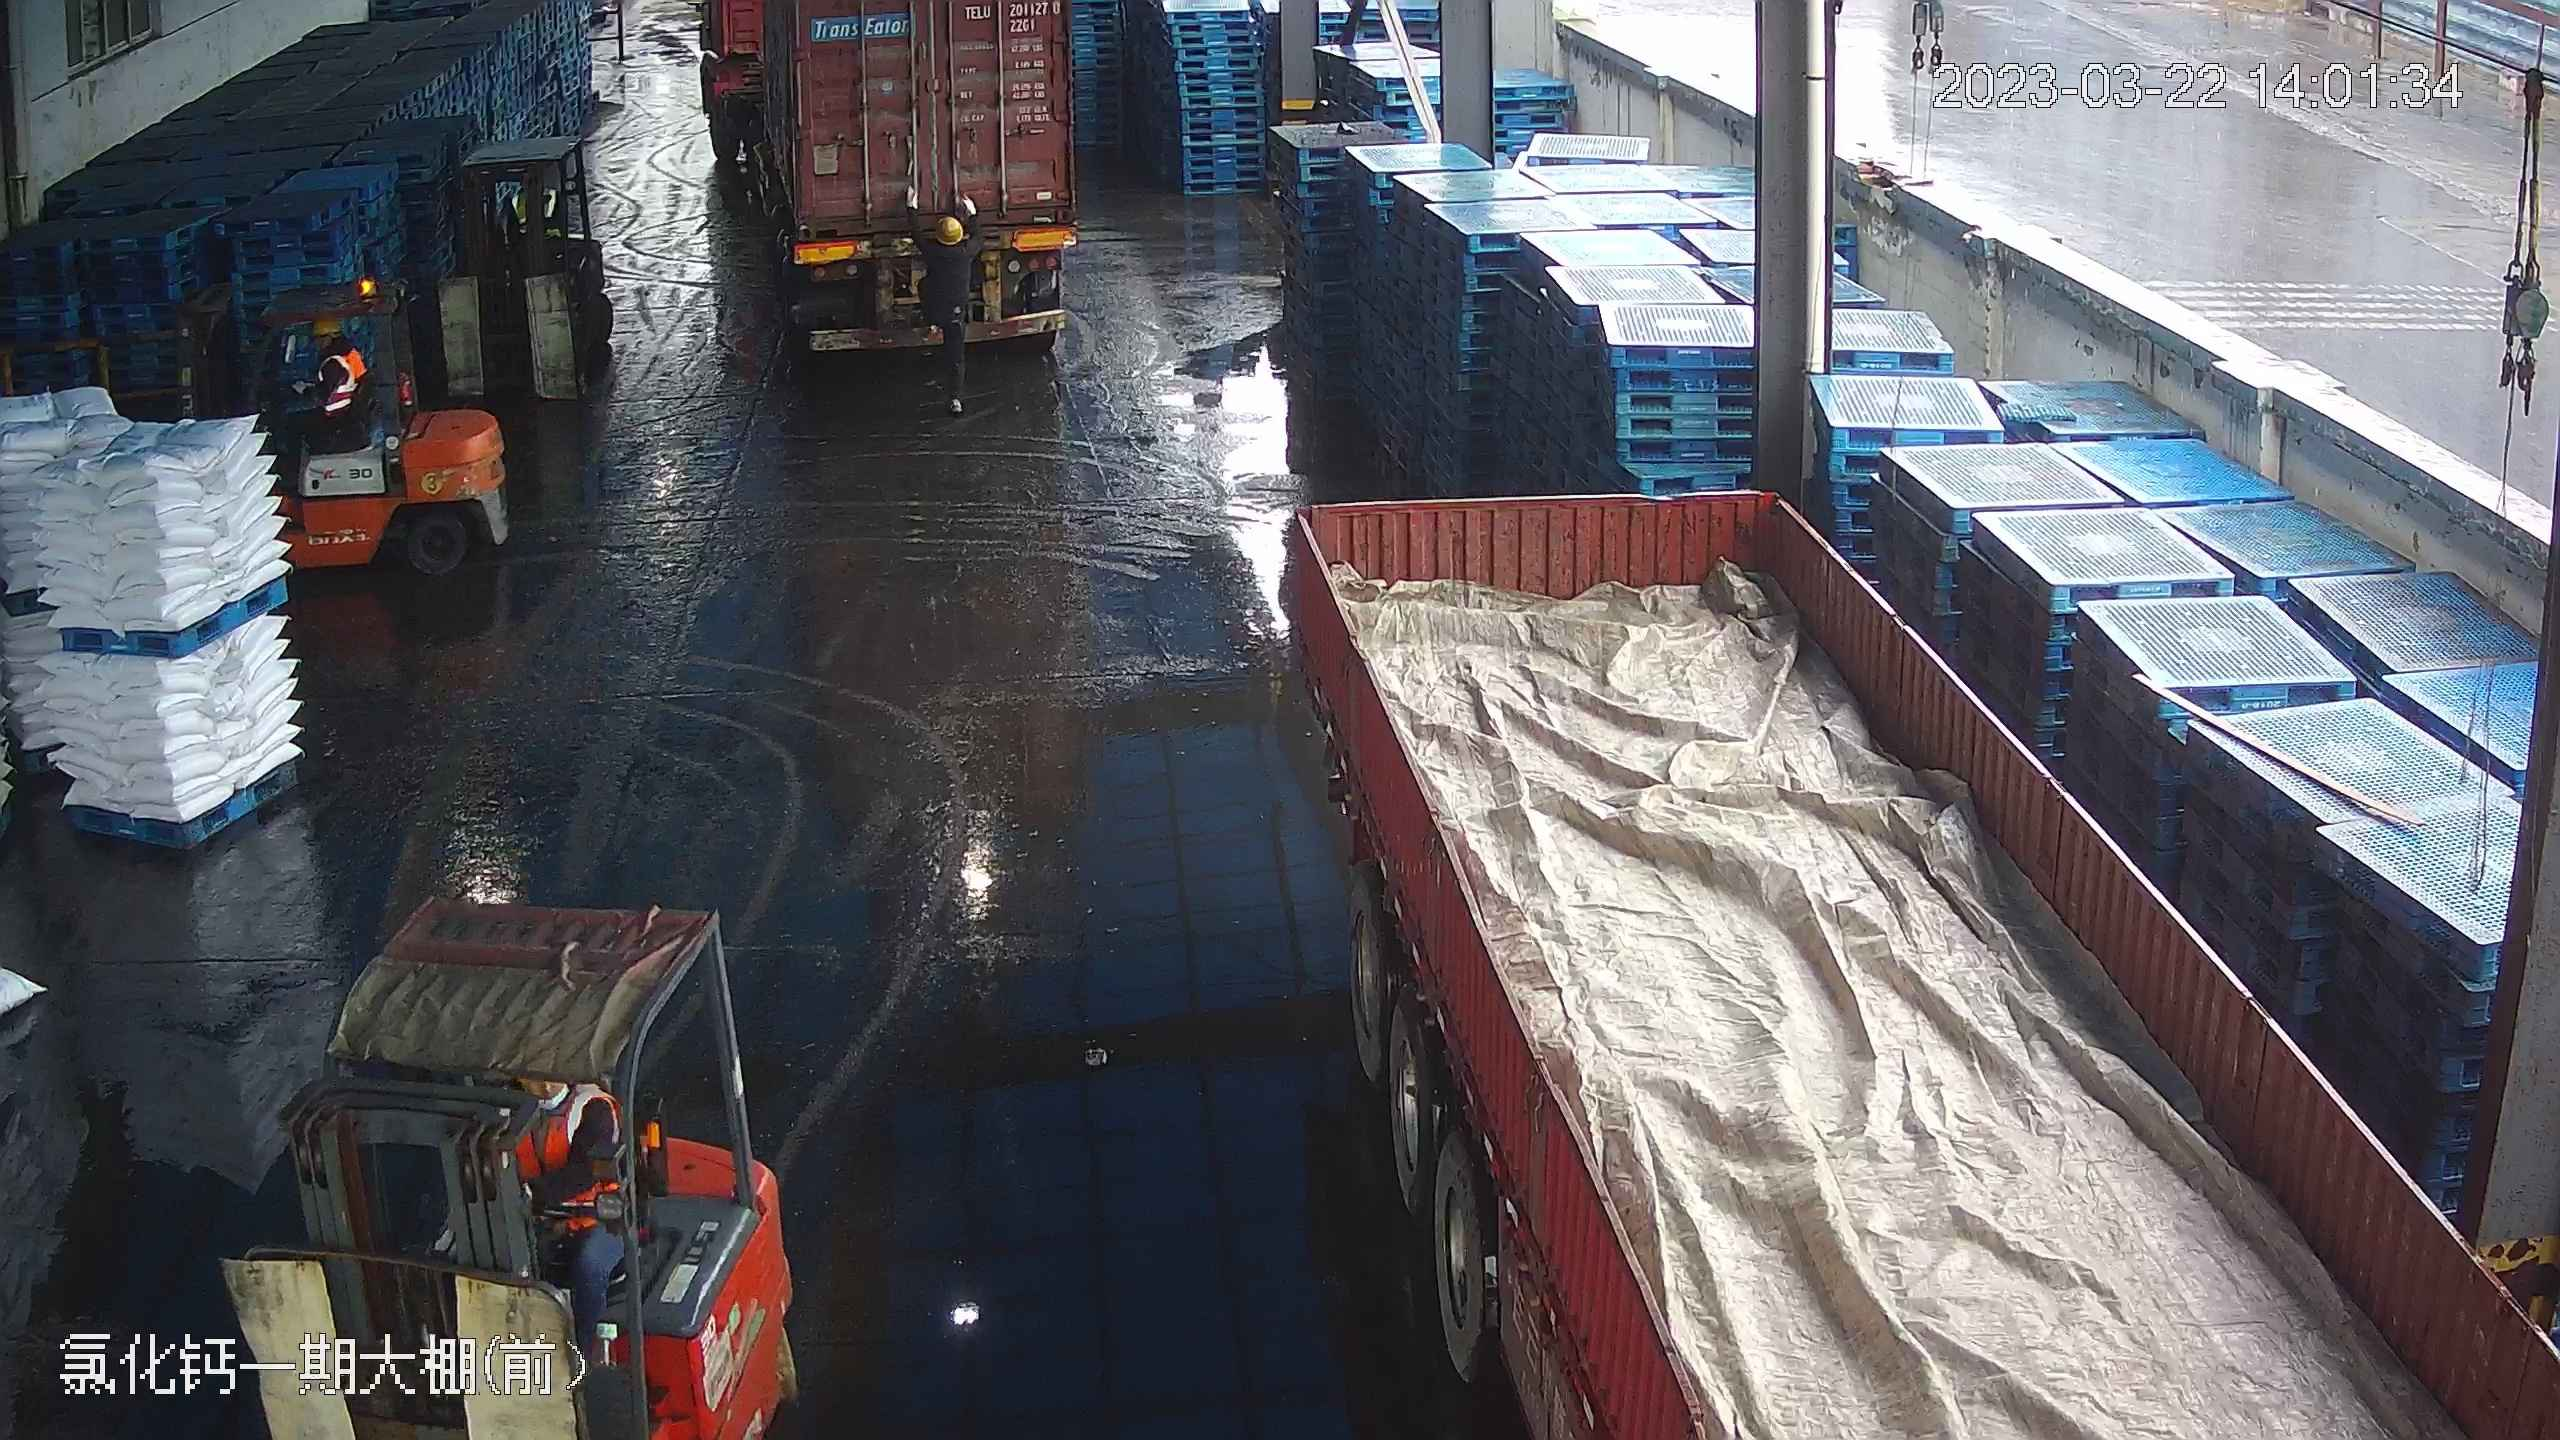head: (304, 313, 362, 376), (926, 213, 974, 272)
helmet: (303, 313, 360, 373), (935, 216, 967, 246), (313, 314, 343, 338)
people: (267, 312, 363, 451), (918, 215, 974, 409)
truck: (1248, 478, 2539, 1440), (711, 0, 1098, 341)
